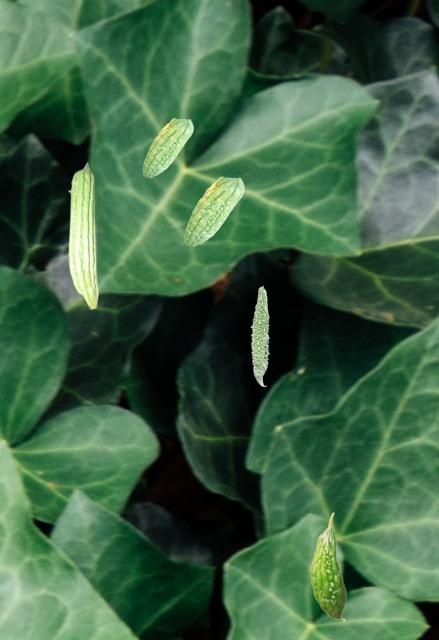ampalaya: (68, 162, 98, 310), (184, 176, 245, 247), (309, 512, 347, 621), (142, 117, 194, 178), (250, 285, 270, 387)
